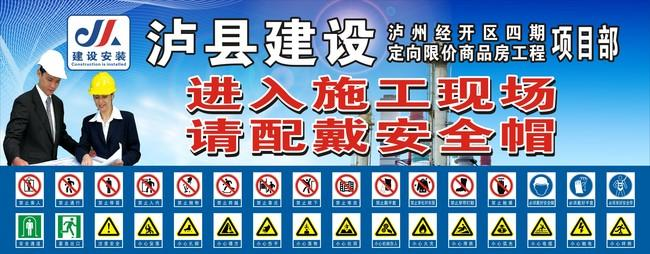helmet: (37, 52, 68, 80), (89, 72, 116, 96)
